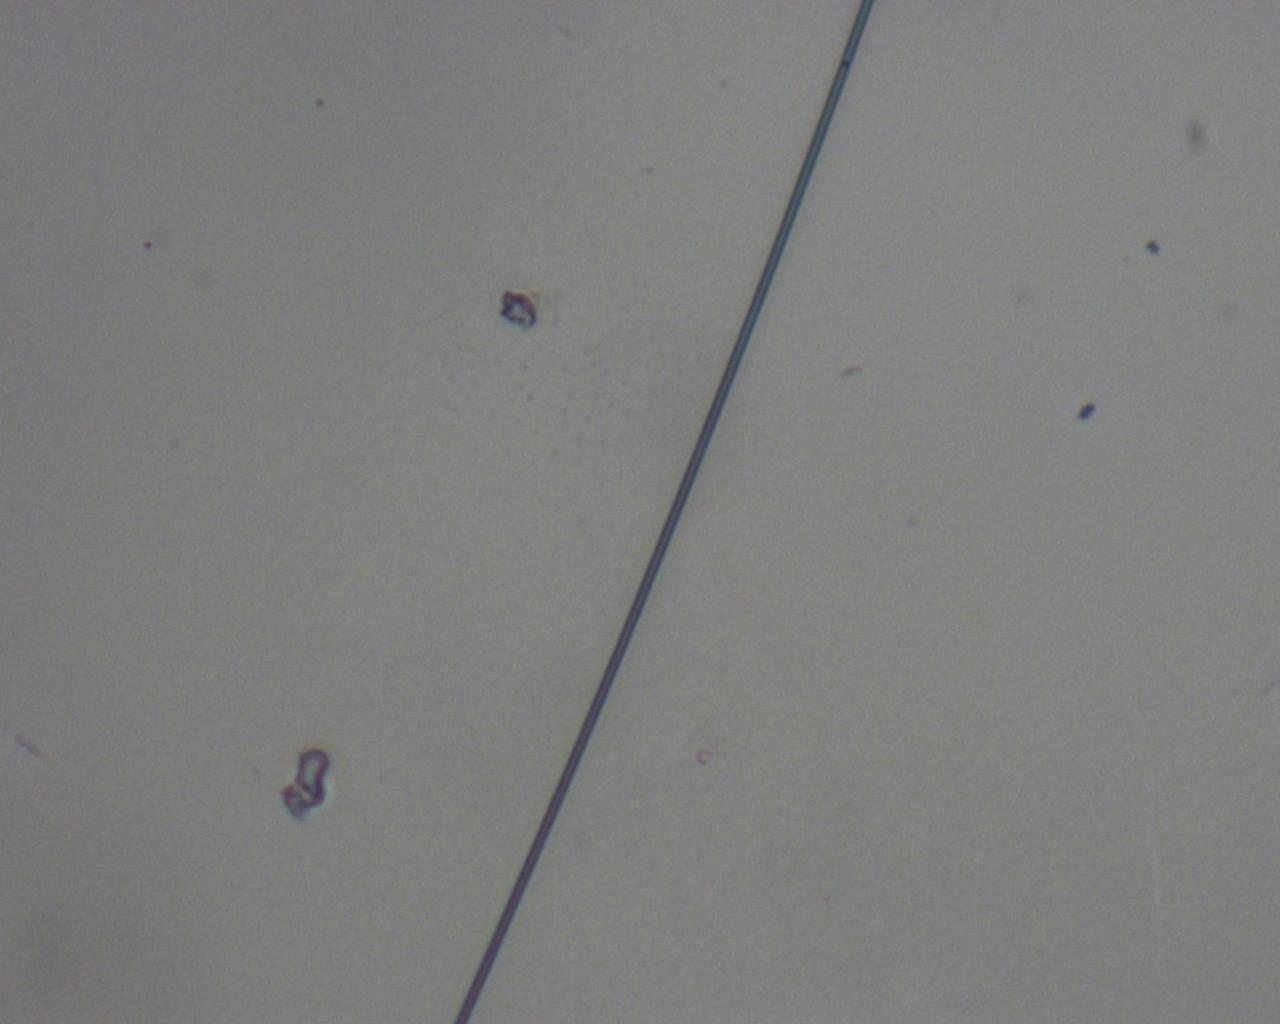fiber: (0, 53, 512, 365), (905, 0, 1137, 440), (955, 440, 1038, 1024)
